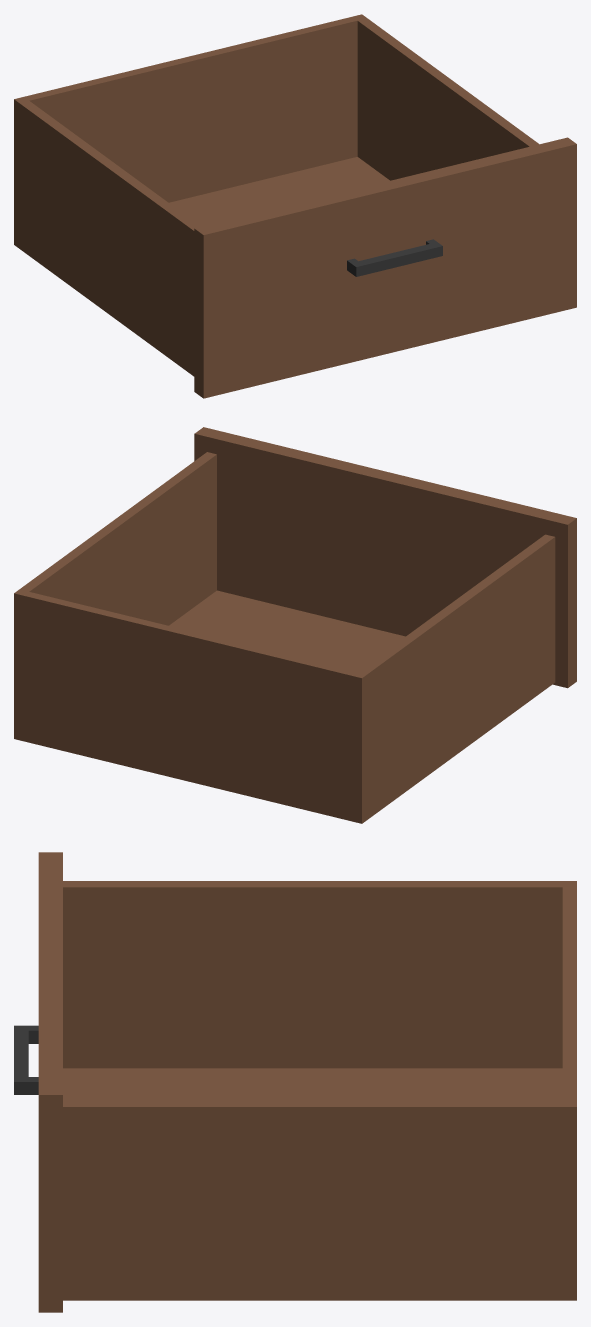
The model's file is Door1_C2_05.fbx.
3 views of the same model, one above another, from view 1: azimuth 30°, elevation 25°; view 2: azimuth 150°, elevation 25°; view 3: azimuth 270°, elevation 25° (orthographic). The views are drawn at different scales.
Visible parts, largest first — view 1: Door1_C2_05; view 2: Door1_C2_05; view 3: Door1_C2_05.
Boxes of the visible parts, box(x1,y1,x2,y2) form: Door1_C2_05: box(14, 14, 576, 398); Door1_C2_05: box(14, 427, 576, 823); Door1_C2_05: box(14, 852, 576, 1312).
Size of the model in its own units: 59 by 24.68 by 57.89.
